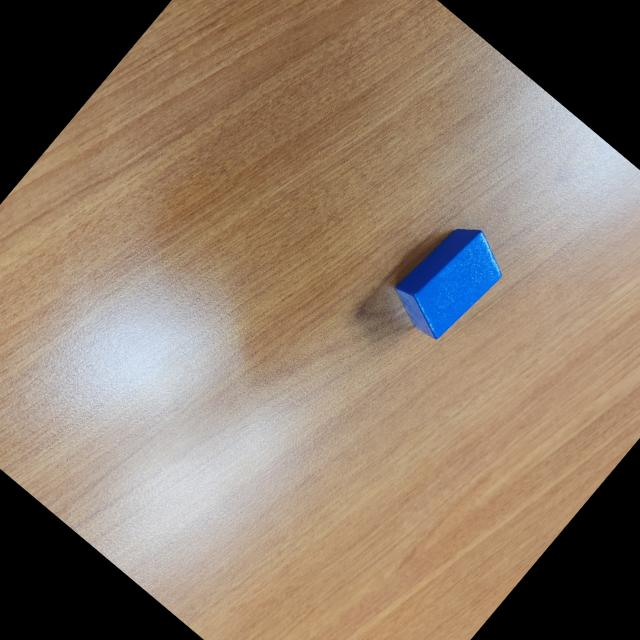blue: (382, 211, 514, 348)
